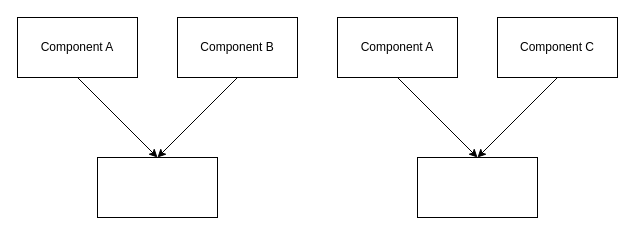
The diagram is 635 pixels wide and 235 high, and some of its shapes have lost their labels. The centre of each missing label's shape, as x and y in pixels:
"Entity A" goes at (157,187).
"Entity B" goes at (477,187).
